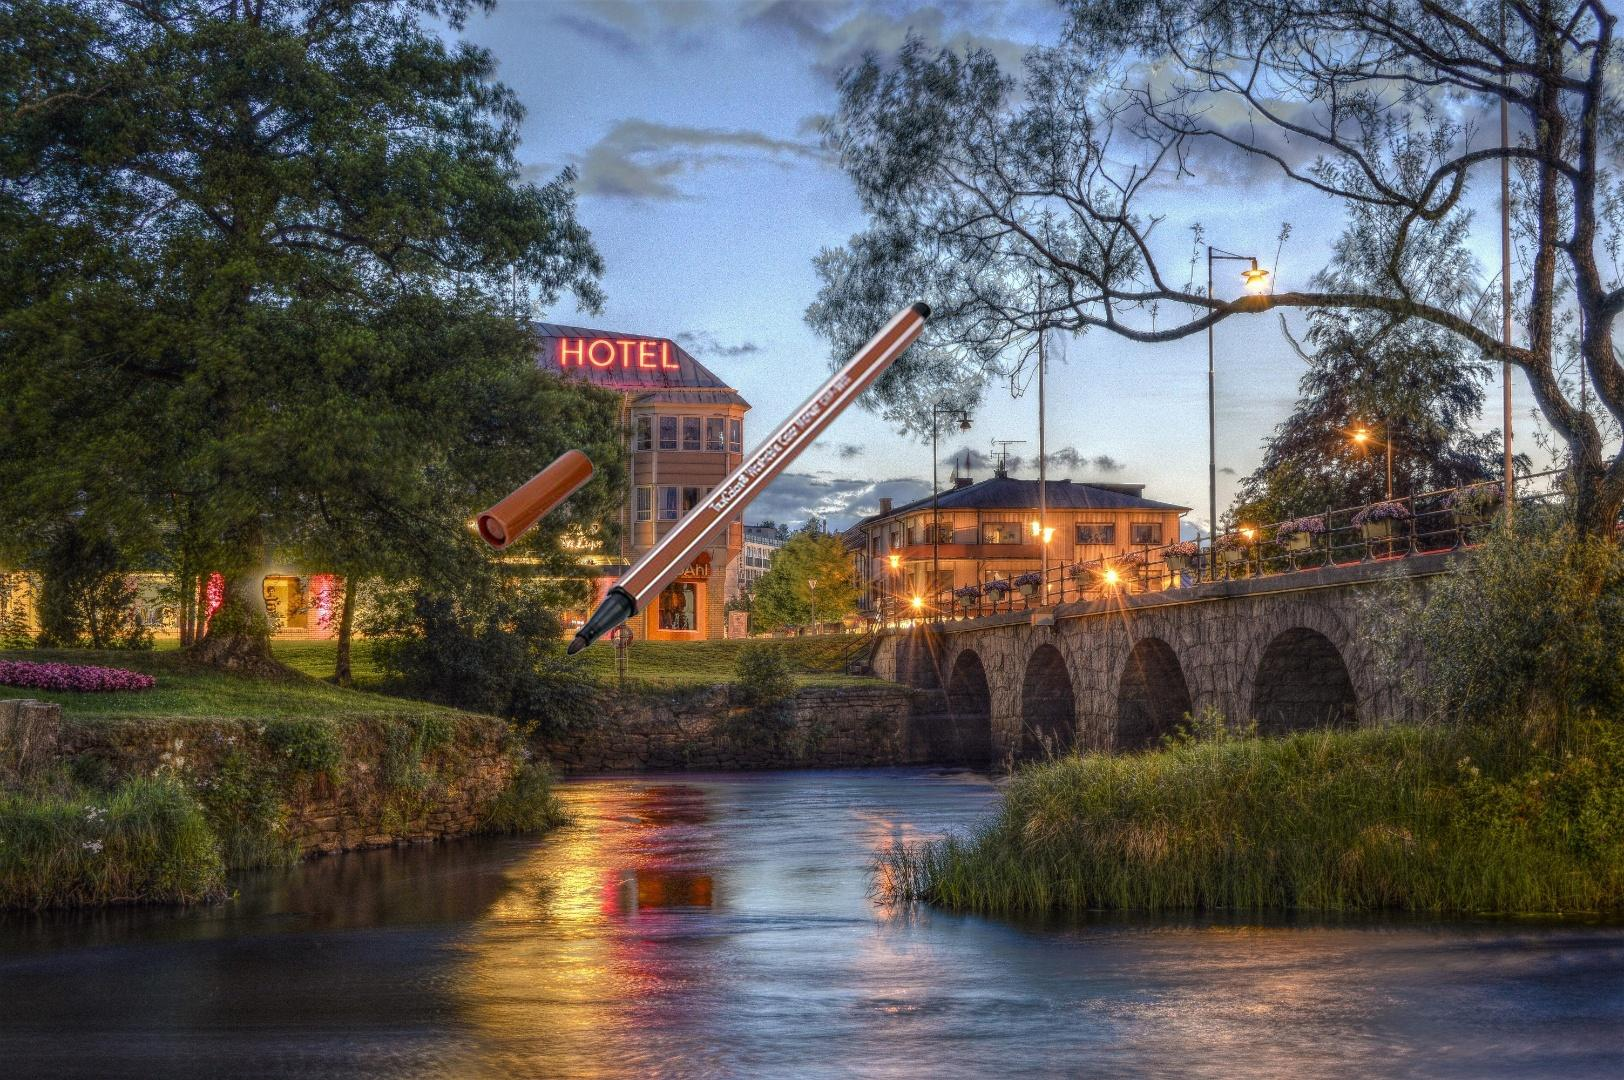penholder: (469, 295, 937, 663)
